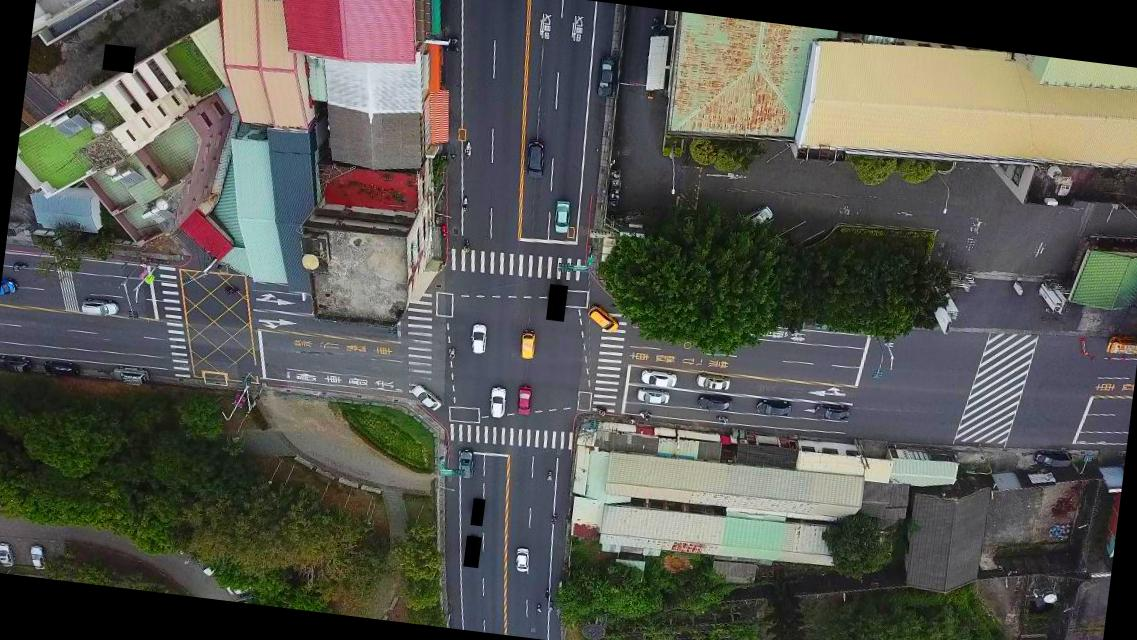vehicle: (522, 138, 548, 180), (742, 200, 776, 232), (585, 303, 621, 332), (593, 54, 616, 98), (76, 296, 119, 319), (407, 383, 443, 410), (811, 400, 852, 423), (548, 197, 572, 236), (1030, 448, 1072, 470), (110, 364, 150, 387), (40, 358, 79, 381), (753, 396, 793, 418), (640, 368, 678, 388), (695, 392, 733, 412), (0, 352, 33, 375), (486, 384, 508, 418), (516, 328, 538, 360), (469, 321, 489, 355), (513, 384, 533, 418), (692, 374, 729, 392), (635, 388, 670, 406), (455, 446, 474, 478), (26, 544, 48, 570), (0, 541, 18, 568)
